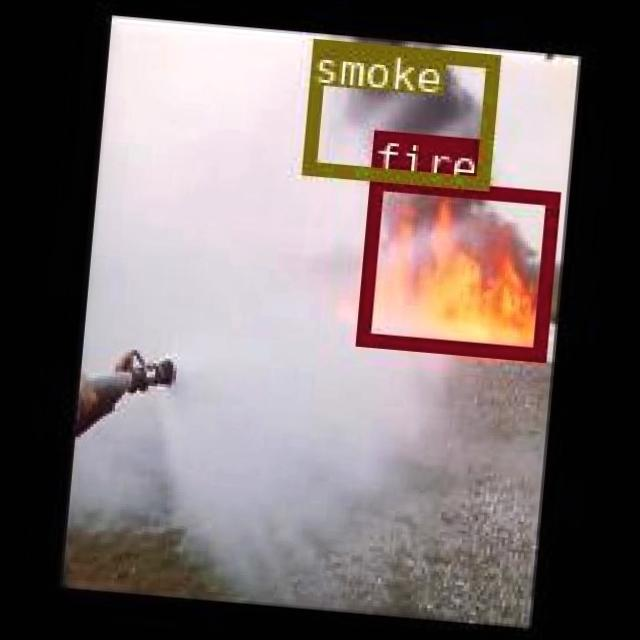fire: (354, 172, 557, 359)
smoke: (300, 37, 498, 188)
